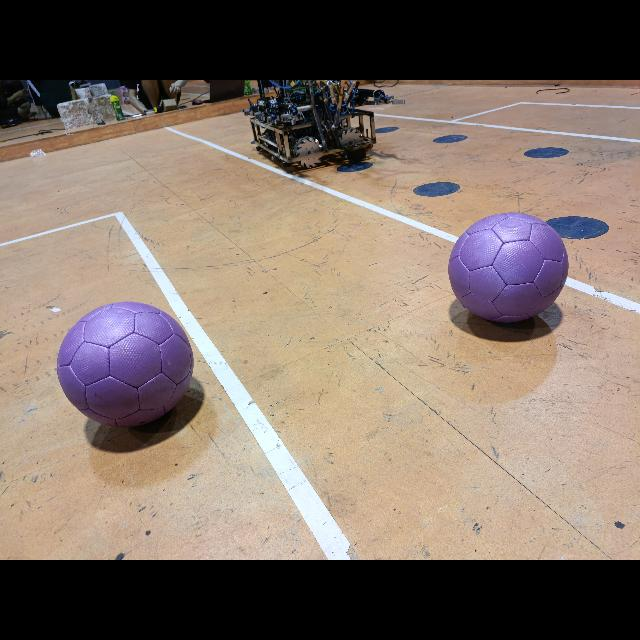P: (56, 301, 194, 427), (448, 212, 568, 322)
